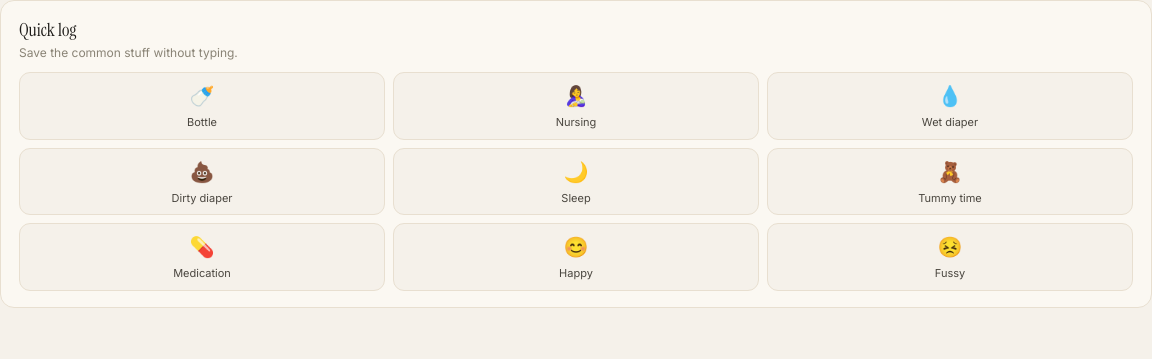
Test: QuickLog › logs a Happy mood in one tap
This screenshot has width=1152, height=359.
Click the button "😊 Happy". click: (576, 257)
box: [393, 223, 759, 290]
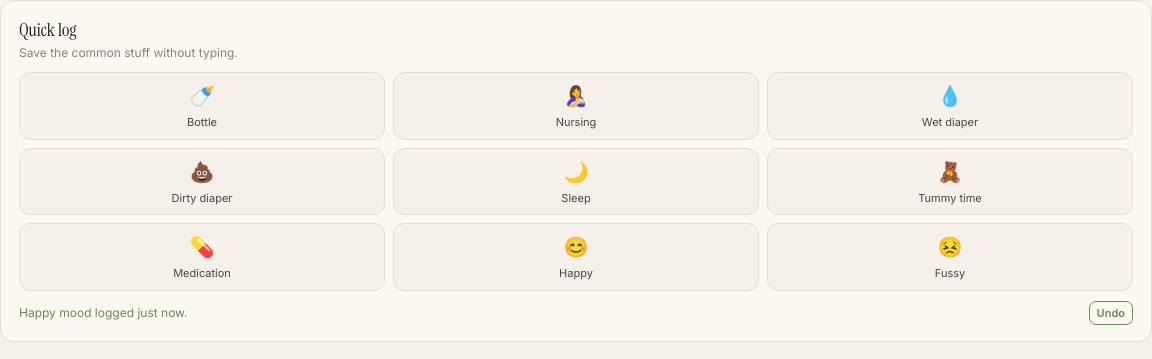
Now the text "Happy mood logged just now." is shown, box [19, 304, 188, 322]
